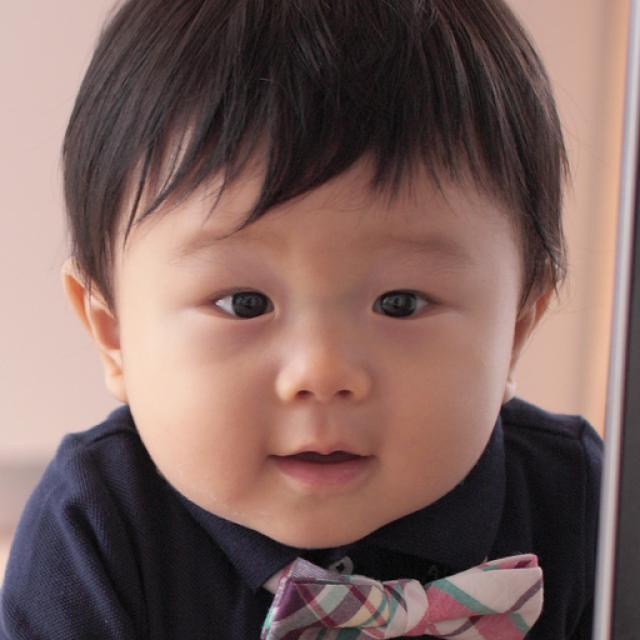happy: (124, 159, 510, 545)
